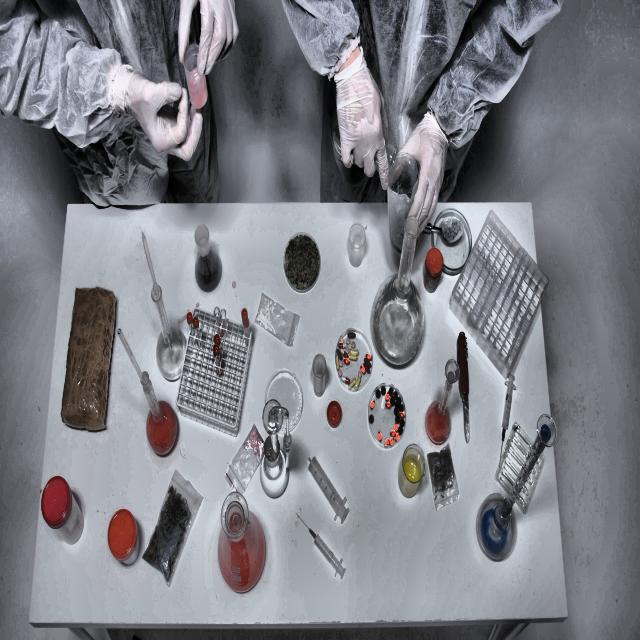gloved: (114, 58, 211, 174), (331, 49, 393, 206), (175, 0, 245, 96), (398, 108, 439, 255)
